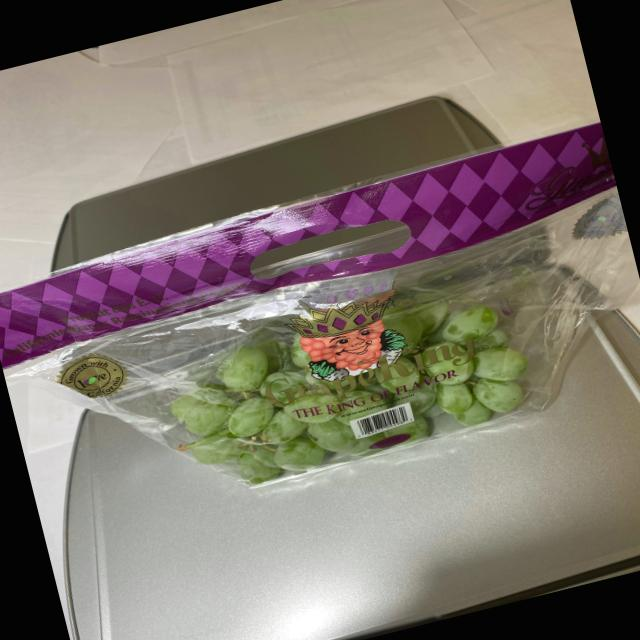grapes: (154, 268, 560, 504)
